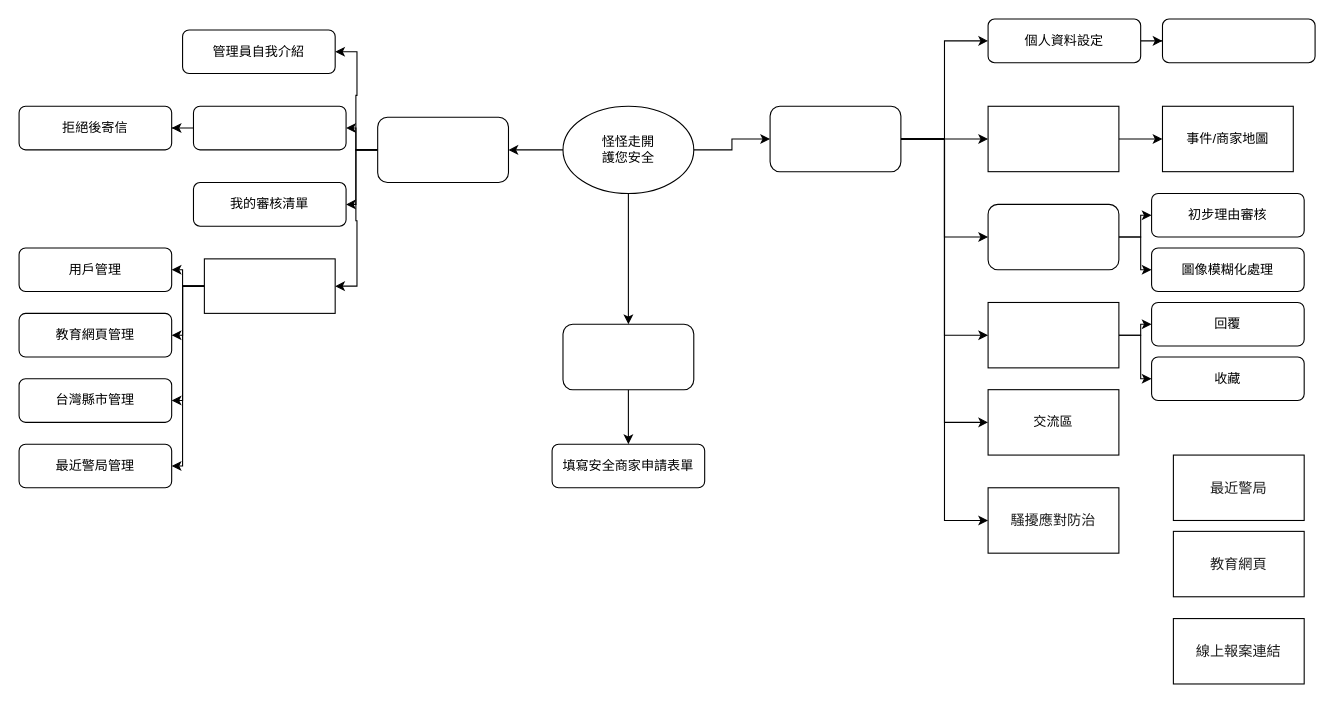
Some shapes in this 1334 by 703 pixel diagram are drawn without their labels. Here are the shapes that lost their labels. From the top down, the box of each, then its label:
(1161, 18, 1315, 63): 查看表單上傳紀錄
(192, 105, 346, 150): 審核清單
(769, 105, 901, 172): 使用者
(987, 105, 1119, 172): 地圖
(377, 116, 508, 183): 管理員
(987, 203, 1119, 270): 填寫事件表單
(203, 258, 335, 313): 管理工具
(987, 301, 1119, 368): 聊天室
(562, 323, 694, 390): 商家
